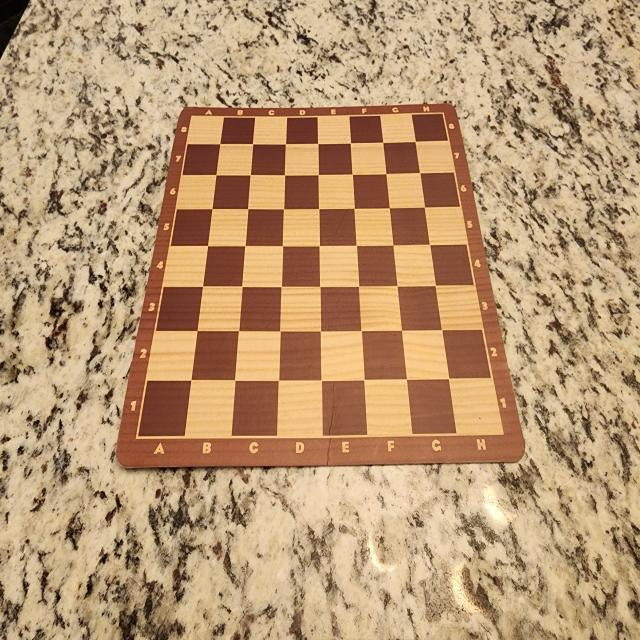Bottom-Left: (138, 382, 190, 437)
Bottom-Right: (449, 379, 503, 435)
Top-Left: (191, 116, 221, 146)
Top-Right: (414, 113, 448, 141)
